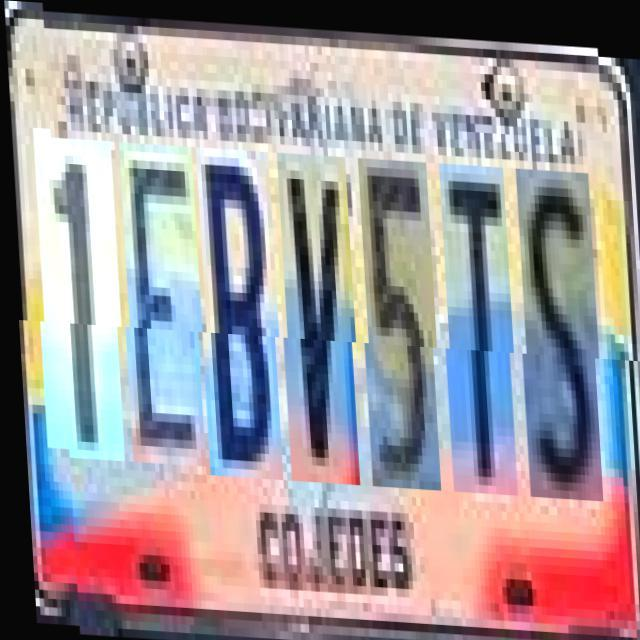1: (32, 136, 124, 460)
5: (356, 153, 440, 485)
B: (194, 144, 282, 477)
E: (117, 140, 204, 464)
S: (514, 162, 602, 494)
T: (438, 158, 516, 490)
V: (275, 149, 359, 481)
